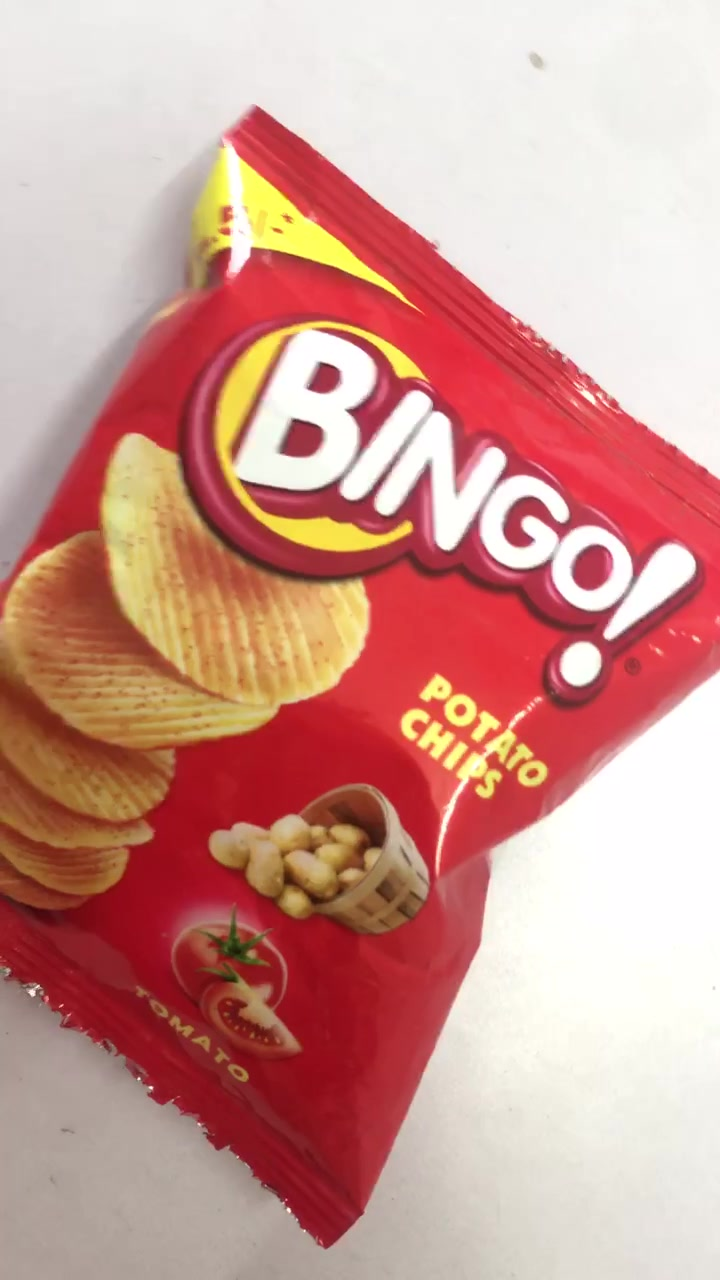Bingo: (13, 132, 720, 1149)
